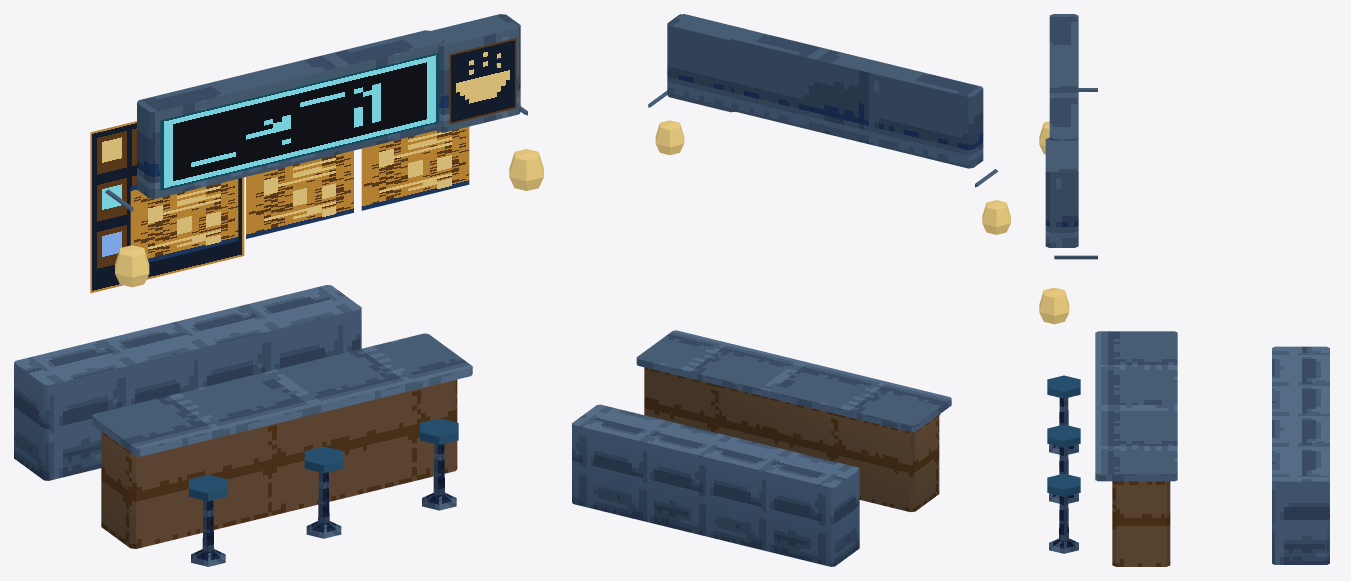
File: cysign.noodle.glb
The picture shows the model from 3 angles, left to right: view 1: azimuth 30°, elevation 25°; view 2: azimuth 150°, elevation 25°; view 3: azimuth 270°, elevation 25°; orthographic projection. The views are drawn at different scales.
Parts seen in each view (by area): view 1: kit_counter, kit_card_cards, kit_stools; view 2: kit_counter, kit_stools; view 3: kit_counter, kit_stools.
Boxes of the visible parts, bbox=[...] form: kit_counter: bbox=[14, 14, 520, 548]; kit_card_cards: bbox=[90, 38, 516, 293]; kit_stools: bbox=[105, 106, 543, 566]; kit_counter: bbox=[572, 14, 983, 566]; kit_stools: bbox=[648, 90, 1010, 415]; kit_counter: bbox=[1045, 14, 1329, 566]; kit_stools: bbox=[1039, 88, 1097, 553].
Bounding box in the file's own units: 4.46 × 4.64 × 3.08.
11 materials, 11 textured.
